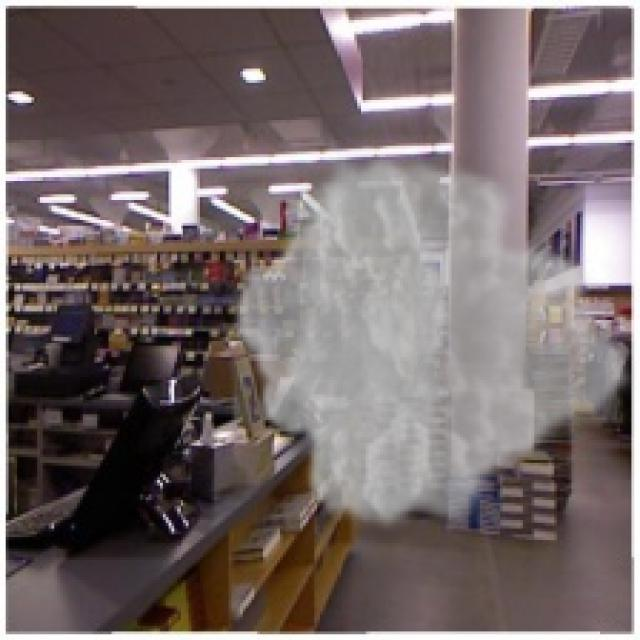smoke: (229, 146, 637, 537)
